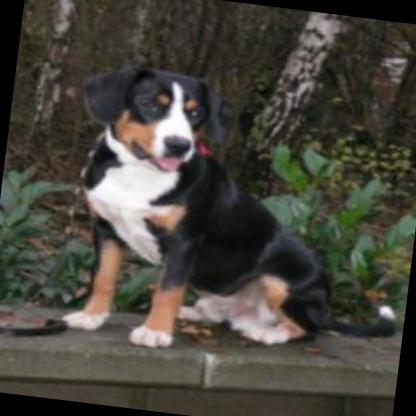EntleBucher: (41, 51, 416, 379)
